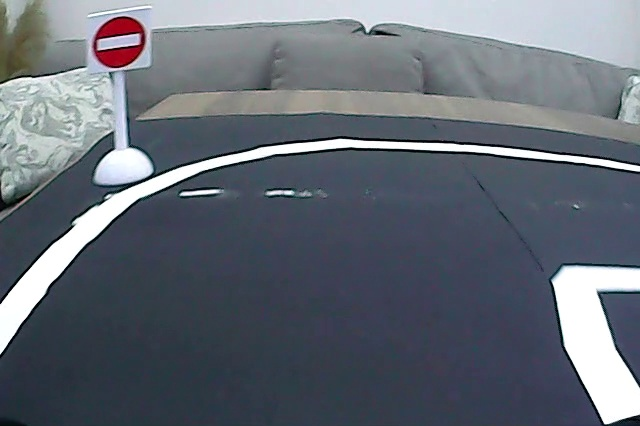do not enter: (90, 13, 148, 73)
